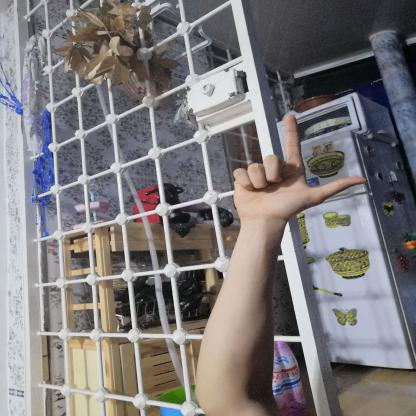LAAM: (216, 106, 378, 231)
